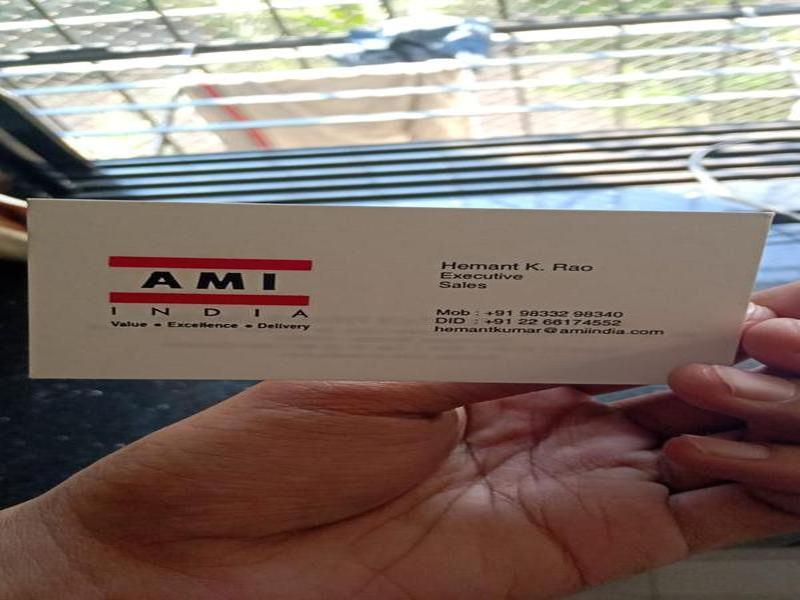card: (28, 196, 773, 390)
